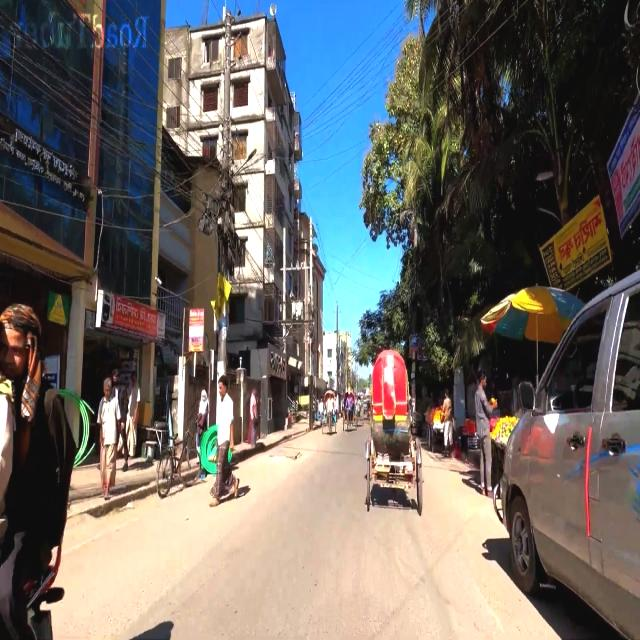silver: (504, 267, 640, 640)
